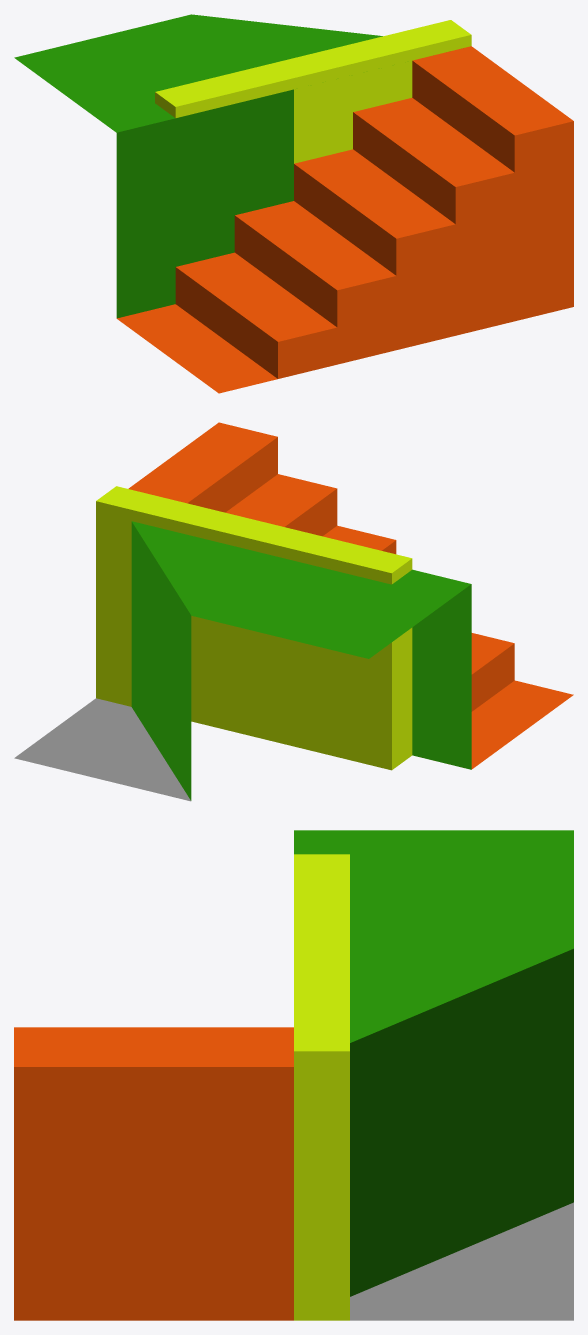
3 renders of one model, top to bottom at view 1: azimuth 30°, elevation 25°; view 2: azimuth 150°, elevation 25°; view 3: azimuth 270°, elevation 25°, orthographic. The views are drawn at different scales.
Visible parts, largest first — view 1: T_a_2_0; view 2: T_a_2_0; view 3: T_a_2_0.
Boxes of the visible parts, left/top/right/bottom form: T_a_2_0: left=14, top=14, right=573, bottom=393; T_a_2_0: left=14, top=422, right=573, bottom=801; T_a_2_0: left=14, top=830, right=573, bottom=1320.
Size of the model in its own units: 99.81 by 52.95 by 99.79.
